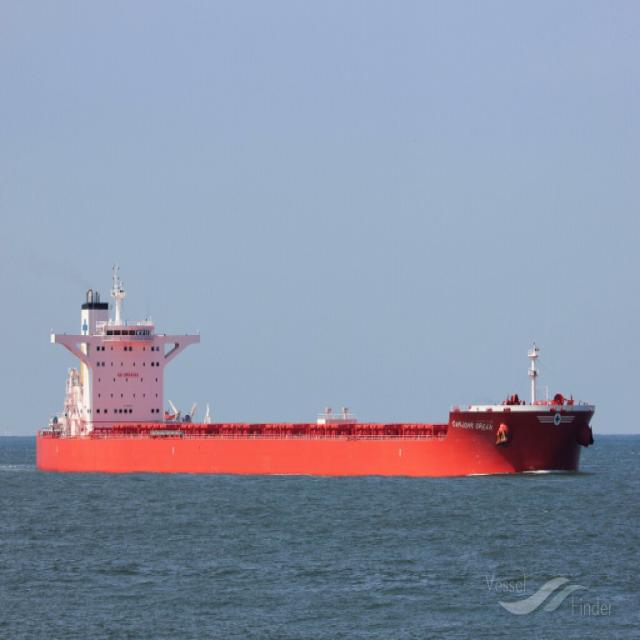OCR: (450, 416, 500, 435)
